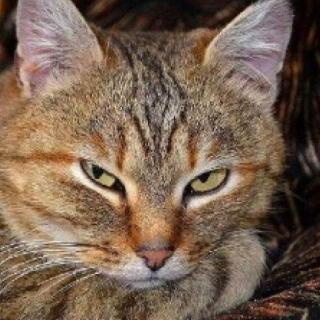cat: (6, 1, 296, 288)
nose: (132, 222, 178, 277)
